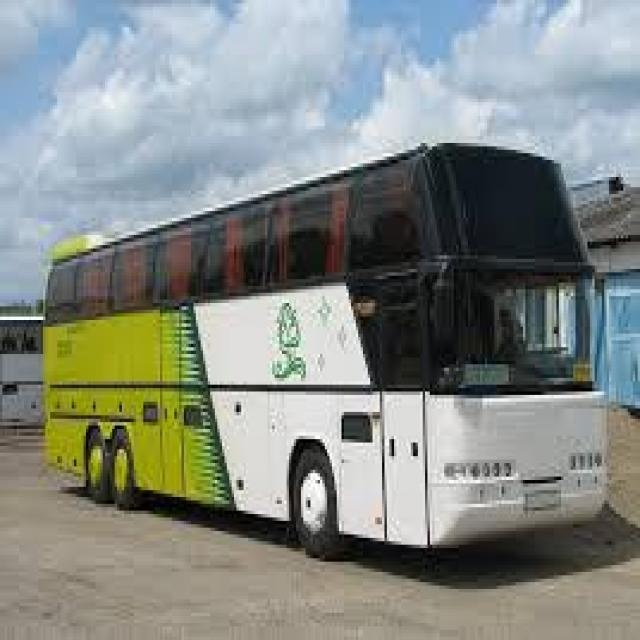Bus: (33, 126, 614, 572)
